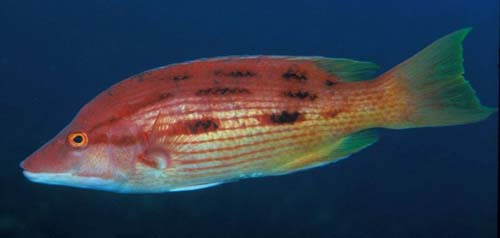fish: (19, 26, 498, 195)
